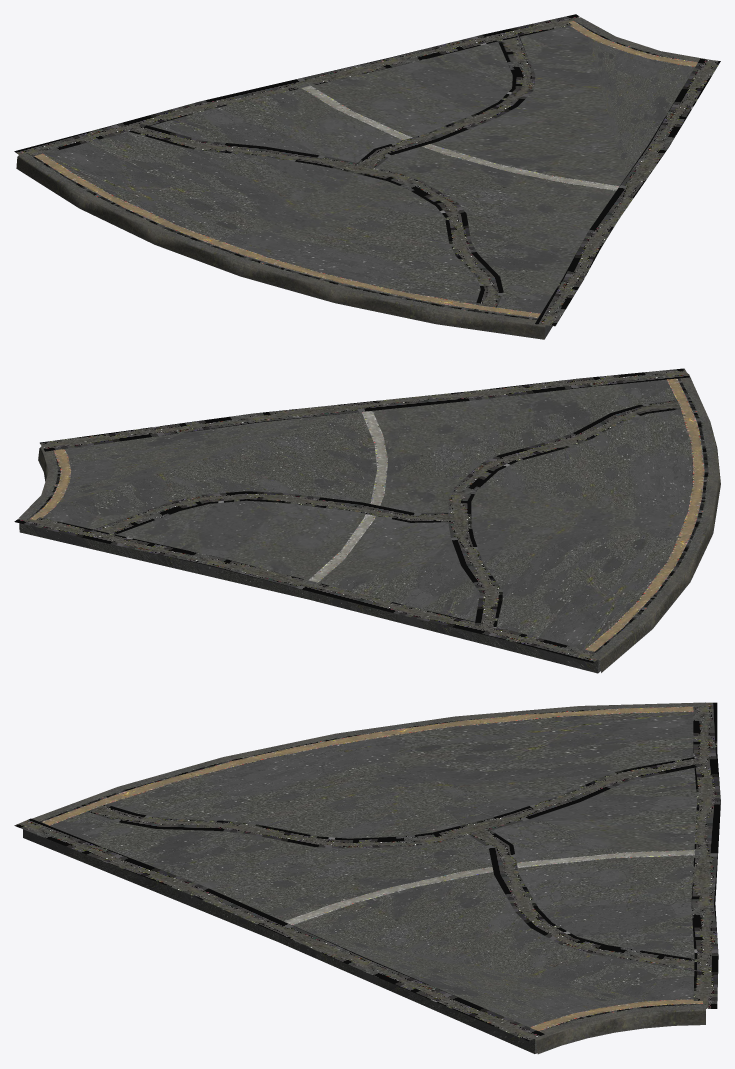
File: road_nopavement_bend45_15x15.glb
The picture shows the model from 3 angles, top to bottom: view 1: azimuth 30°, elevation 25°; view 2: azimuth 150°, elevation 25°; view 3: azimuth 270°, elevation 25°; orthographic projection. The views are drawn at different scales.
Visible parts, largest first — view 1: road_nopavement_bend45_15x15_LOD0; view 2: road_nopavement_bend45_15x15_LOD0; view 3: road_nopavement_bend45_15x15_LOD0.
Part boxes in pixels (x1,y1,x2,y2): road_nopavement_bend45_15x15_LOD0: (14,14,720,339); road_nopavement_bend45_15x15_LOD0: (14,368,720,673); road_nopavement_bend45_15x15_LOD0: (14,702,720,1054).
Bounding box in the file's own units: 10.01 × 0.2749 × 8.78.
2 materials, 2 textured.
